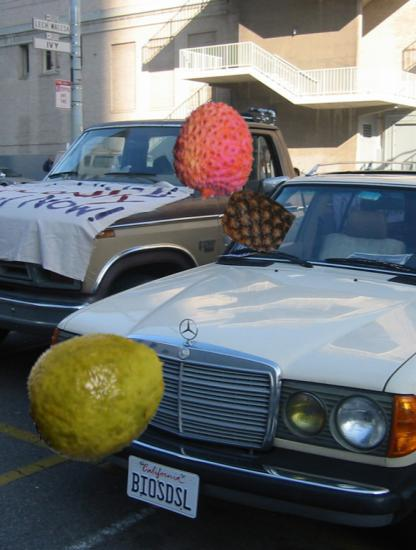Guava: (27, 321, 172, 466)
Lychee: (164, 101, 266, 203)
Pineapple: (221, 187, 290, 256)
